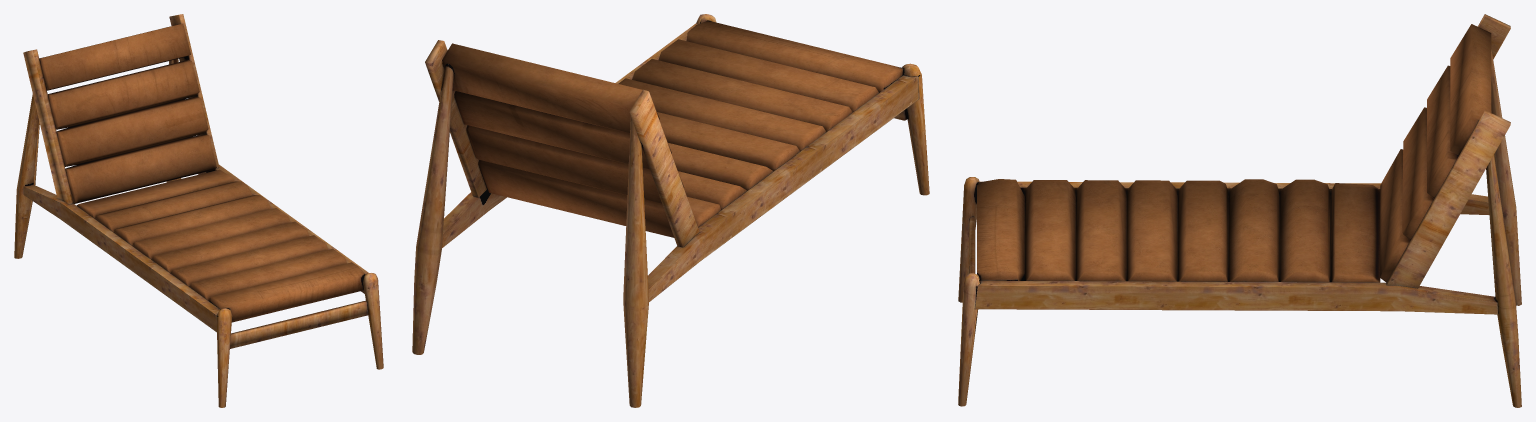
Rendered from Pawlak Chaise Lounger.fbx.
3 views of the same model, side by side, from view 1: azimuth 30°, elevation 25°; view 2: azimuth 150°, elevation 25°; view 3: azimuth 270°, elevation 25° (orthographic). The views are drawn at different scales.
Parts seen in each view (by area): view 1: Pawlak Chaise Lounger; view 2: Pawlak Chaise Lounger; view 3: Pawlak Chaise Lounger.
Boxes of the visible parts, x1,y1,x2,y2 form: Pawlak Chaise Lounger: (14, 14, 383, 407); Pawlak Chaise Lounger: (412, 14, 929, 407); Pawlak Chaise Lounger: (958, 14, 1521, 407).
Size of the model in its own units: 0.7859 by 0.9868 by 1.73.
Materials: 1 (1 with a texture image).
